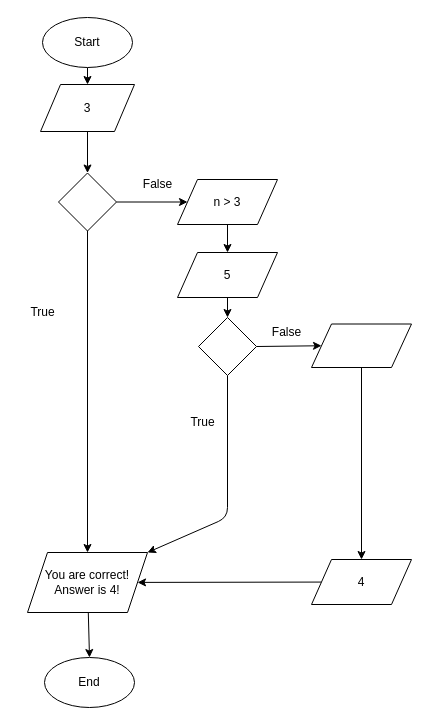
Some shapes in this 429 by 725 pixel diagram are drawn without their labels. Here are the shapes that lost their labels. From the top down, the centre of each, then its label:
At point 87,201: "n = 3".
At point 227,346: "n = 5".
At point 361,345: "n < 5".
